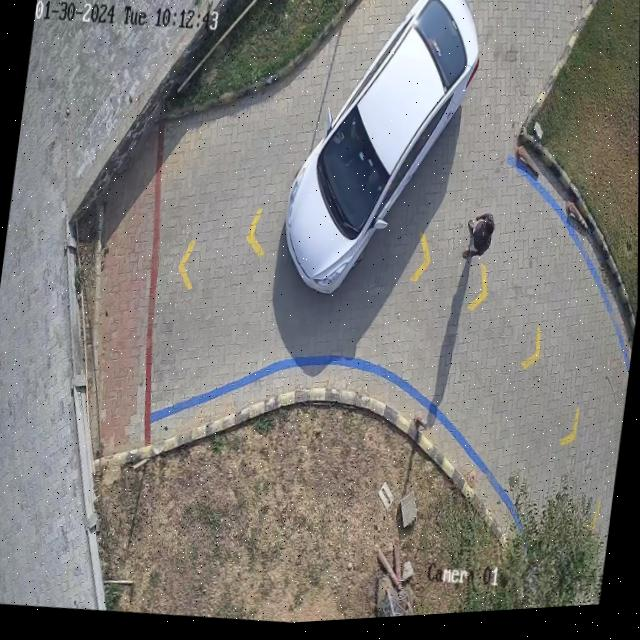car: (285, 0, 479, 296)
